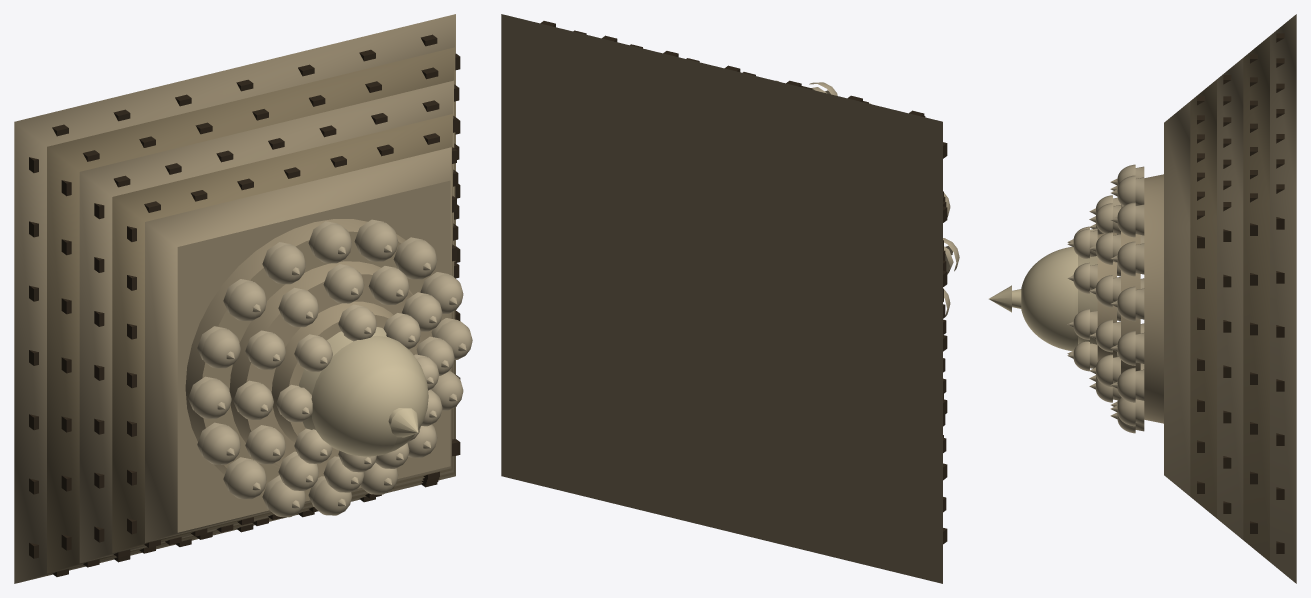
File: borobudur.glb
The picture shows the model from 3 angles, left to right: view 1: azimuth 30°, elevation 25°; view 2: azimuth 150°, elevation 25°; view 3: azimuth 270°, elevation 25°; orthographic projection. The views are drawn at different scales.
Visible parts, largest first — view 1: part-stone, part-stoneShade, part-bell, part-stupa, part-dark; view 2: part-stone, part-dark, part-bell; view 3: part-stone, part-stoneShade, part-bell, part-stupa, part-dark.
Boxes of the visible parts, box(x1,y1,x2,y2) form: part-stone: box(14, 14, 455, 583); part-stoneShade: box(47, 47, 454, 573); part-bell: box(188, 219, 472, 517); part-stupa: box(299, 327, 428, 456); part-dark: box(29, 34, 460, 576); part-stone: box(501, 14, 942, 583); part-dark: box(540, 21, 947, 544); part-bell: box(775, 80, 959, 316); part-stone: box(1097, 14, 1296, 583); part-stoneShade: box(1190, 36, 1269, 561); part-bell: box(1067, 164, 1144, 433); part-stupa: box(989, 247, 1097, 351); part-dark: box(1197, 33, 1284, 553).
Size of the model in its own units: 1.1 by 1.1 by 0.79.
